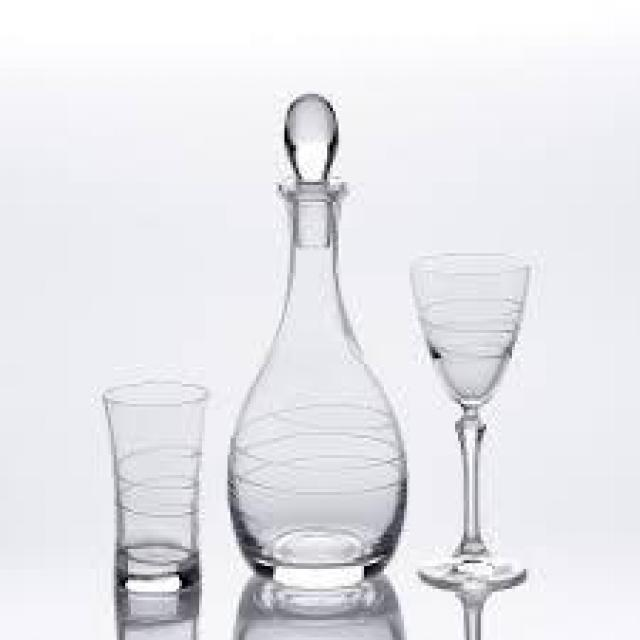non-organic waste: (219, 84, 410, 593), (404, 248, 538, 594), (94, 375, 213, 603)
